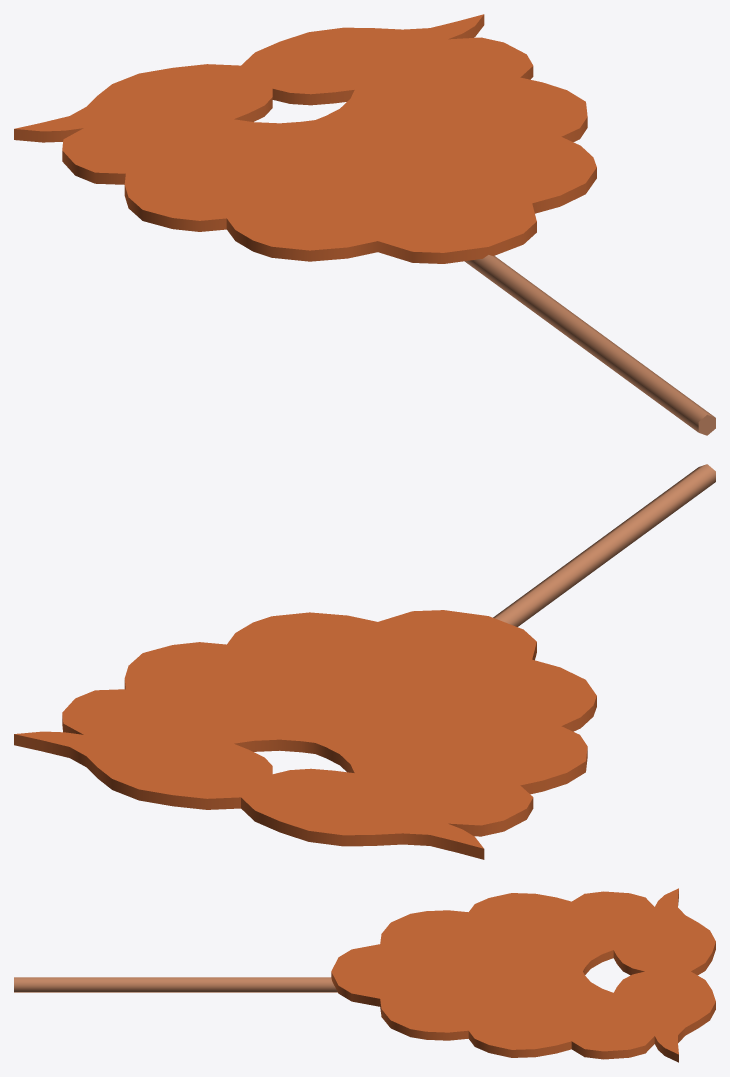
Rendered from StickMaskBeard_01.fbx.
3 views of the same model, one above another, from view 1: azimuth 30°, elevation 25°; view 2: azimuth 150°, elevation 25°; view 3: azimuth 270°, elevation 25° (orthographic). The views are drawn at different scales.
Visible parts, largest first — view 1: StickMaskBeard_01; view 2: StickMaskBeard_01; view 3: StickMaskBeard_01.
Part boxes in pixels (x1,y1,x2,y2): StickMaskBeard_01: (14,14,715,435); StickMaskBeard_01: (14,464,715,859); StickMaskBeard_01: (14,888,715,1062).
Bounding box in the file's own units: 0.3364 × 0.0198 × 0.5991.
